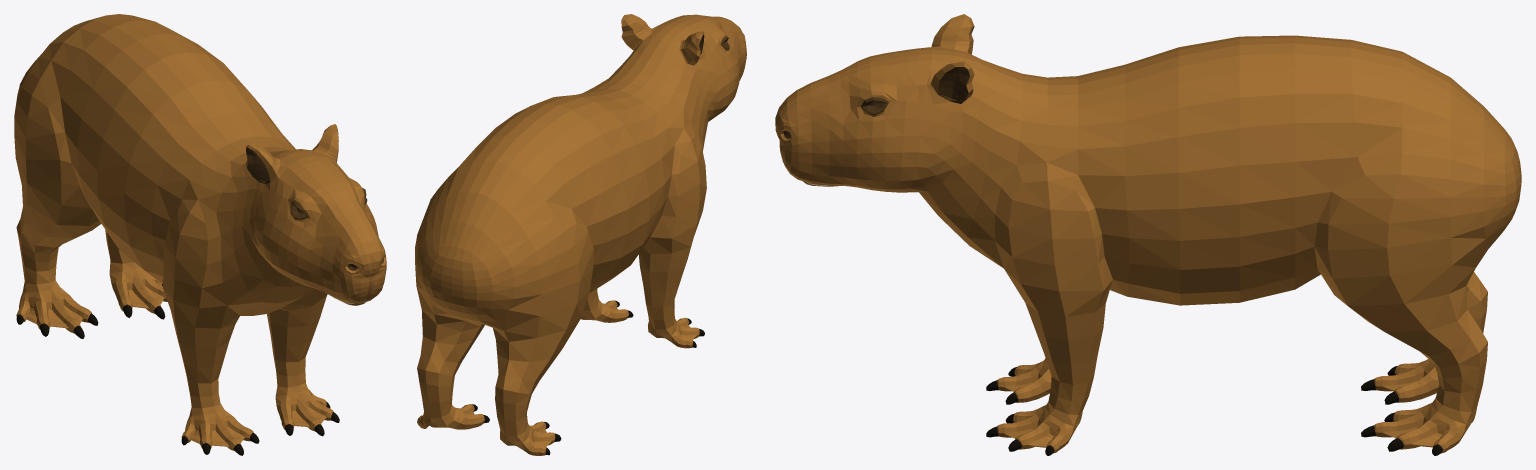
Rendered from capybara_capibara_triangulated.obj.
3 renders of one model, left to right at view 1: azimuth 30°, elevation 25°; view 2: azimuth 150°, elevation 25°; view 3: azimuth 270°, elevation 25°, orthographic. The views are drawn at different scales.
Bounding box in the file's own units: 0.3865 × 0.6795 × 1.22.
